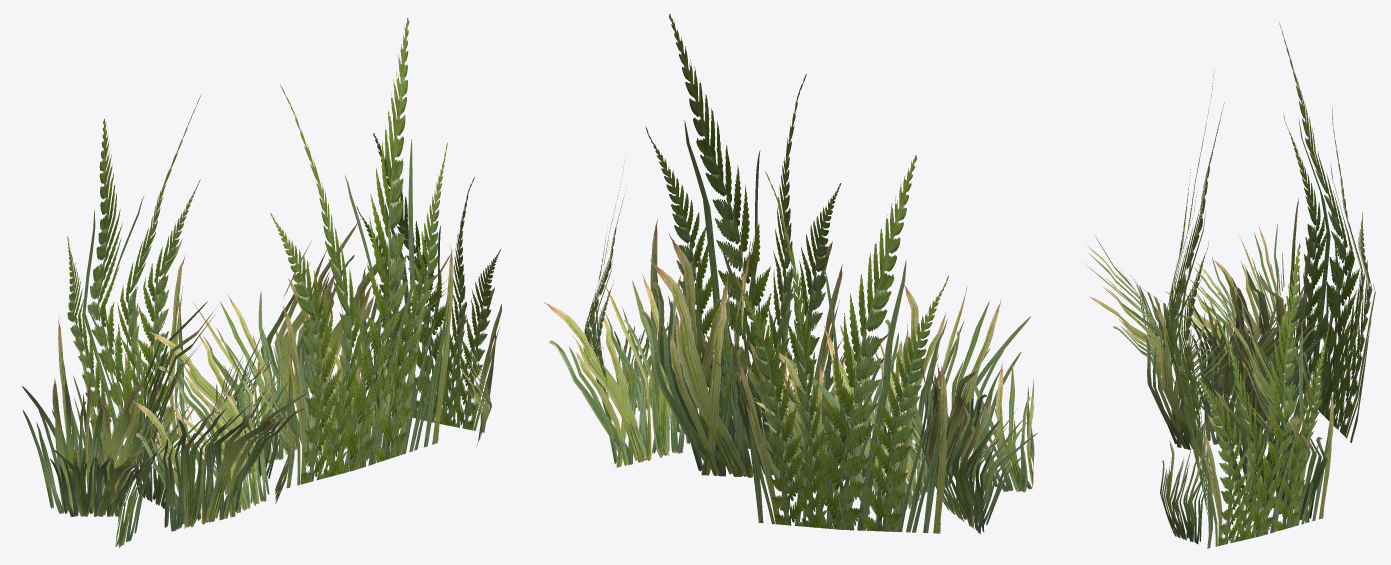
File: Grass_1.fbx
3 renders of one model, left to right at view 1: azimuth 30°, elevation 25°; view 2: azimuth 150°, elevation 25°; view 3: azimuth 270°, elevation 25°, orthographic. The views are drawn at different scales.
Parts seen in each view (by area): view 1: Grass_1_Leaf2, Grass_1_Leaf1; view 2: Grass_1_Leaf2, Grass_1_Leaf1; view 3: Grass_1_Leaf2, Grass_1_Leaf1.
Part boxes in pixels (x1,y1,x2,y2): Grass_1_Leaf2: [58, 18, 501, 488]; Grass_1_Leaf1: [22, 218, 491, 547]; Grass_1_Leaf2: [584, 14, 948, 533]; Grass_1_Leaf1: [543, 233, 1037, 533]; Grass_1_Leaf2: [1164, 22, 1375, 548]; Grass_1_Leaf1: [1083, 224, 1328, 544].
Bounding box in the file's own units: 124 × 117 × 72.76.
